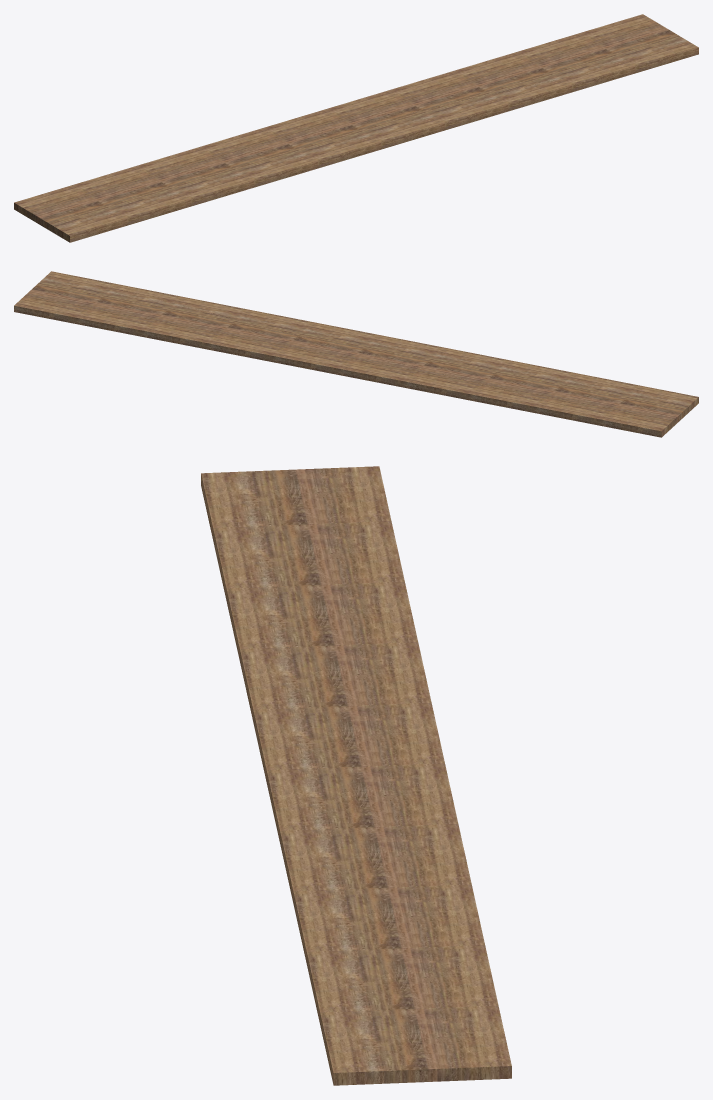
Rendered from wood.fbx.
3 views of the same model, one above another, from view 1: azimuth 30°, elevation 25°; view 2: azimuth 150°, elevation 25°; view 3: azimuth 270°, elevation 25° (orthographic). The views are drawn at different scales.
Visible parts, largest first — view 1: wood_; view 2: wood_; view 3: wood_.
Part boxes in pixels (box(x1,y1,x2,y2)): wood_: box(14, 14, 698, 242); wood_: box(14, 271, 698, 437); wood_: box(201, 466, 511, 1085).
Size of the model in its own units: 379 by 3.7 by 81.98.
1 material, 1 textured.
